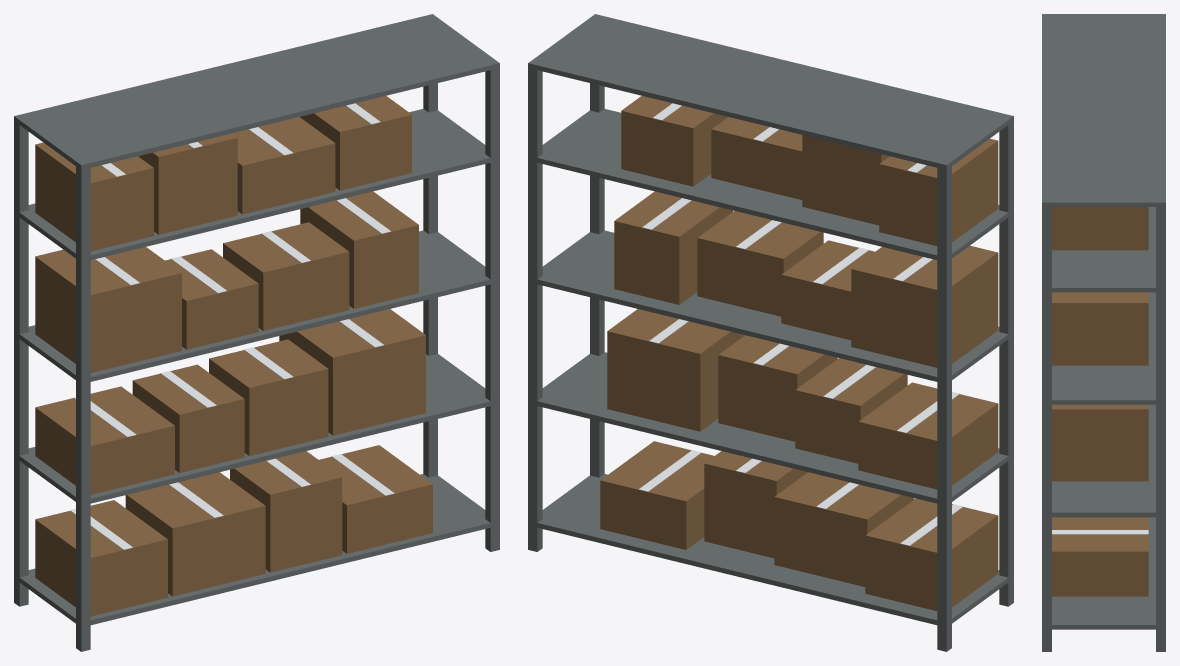
File: prop_shelf_rack.glb
3 views of the same model, side by side, from view 1: azimuth 30°, elevation 25°; view 2: azimuth 150°, elevation 25°; view 3: azimuth 270°, elevation 25° (orthographic). The views are drawn at different scales.
Visible parts, largest first — view 1: prop_shelf_rack; view 2: prop_shelf_rack; view 3: prop_shelf_rack.
Boxes of the visible parts, x1=… form: prop_shelf_rack: x1=14, y1=14, x2=499, y2=651; prop_shelf_rack: x1=528, y1=14, x2=1013, y2=651; prop_shelf_rack: x1=1042, y1=14, x2=1165, y2=651.
Size of what is drawn, in the model's own units: 1.8 by 2 by 0.5.
